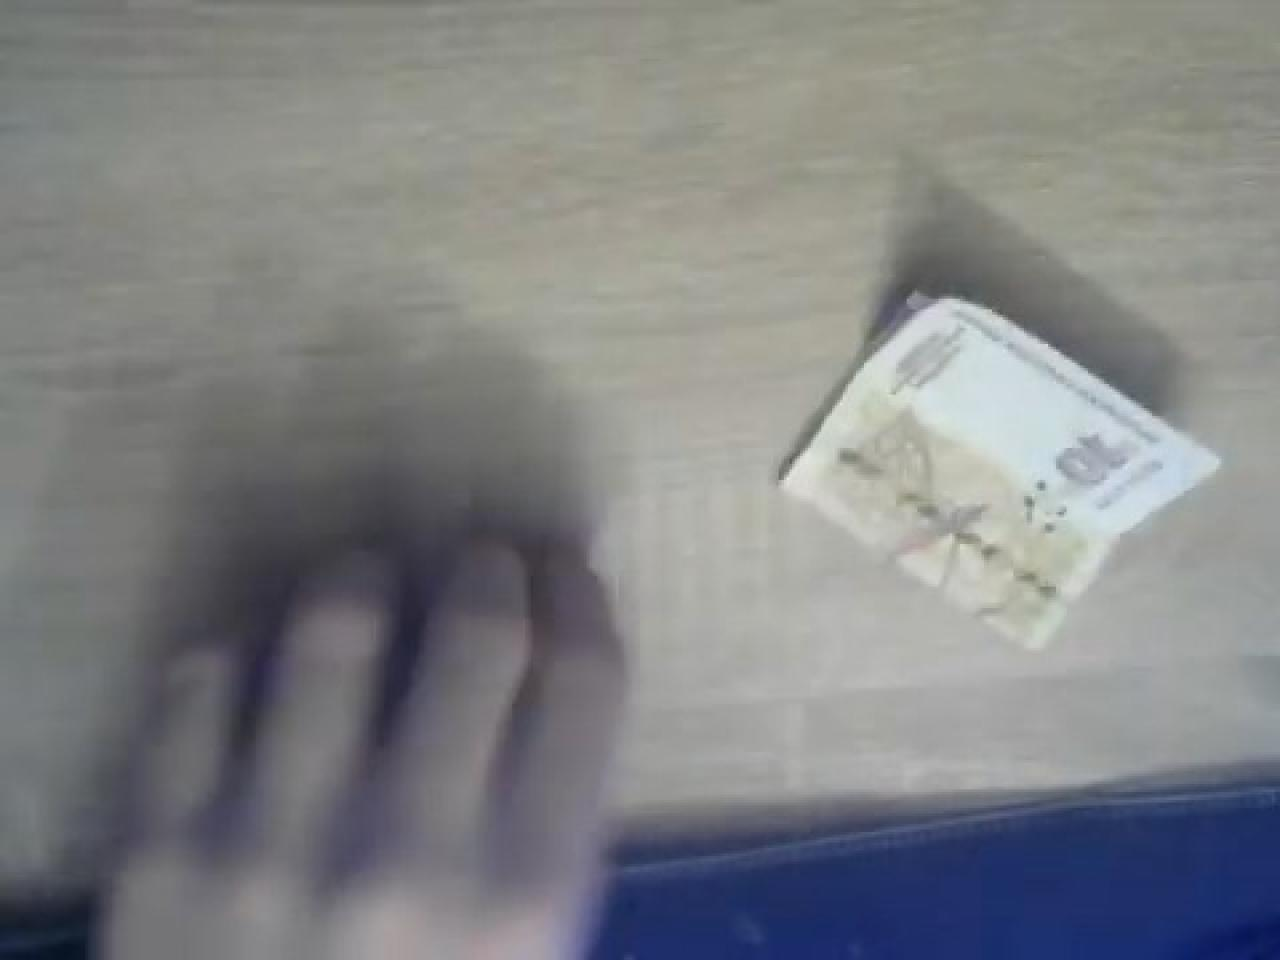10leva: (773, 285, 1222, 655)
